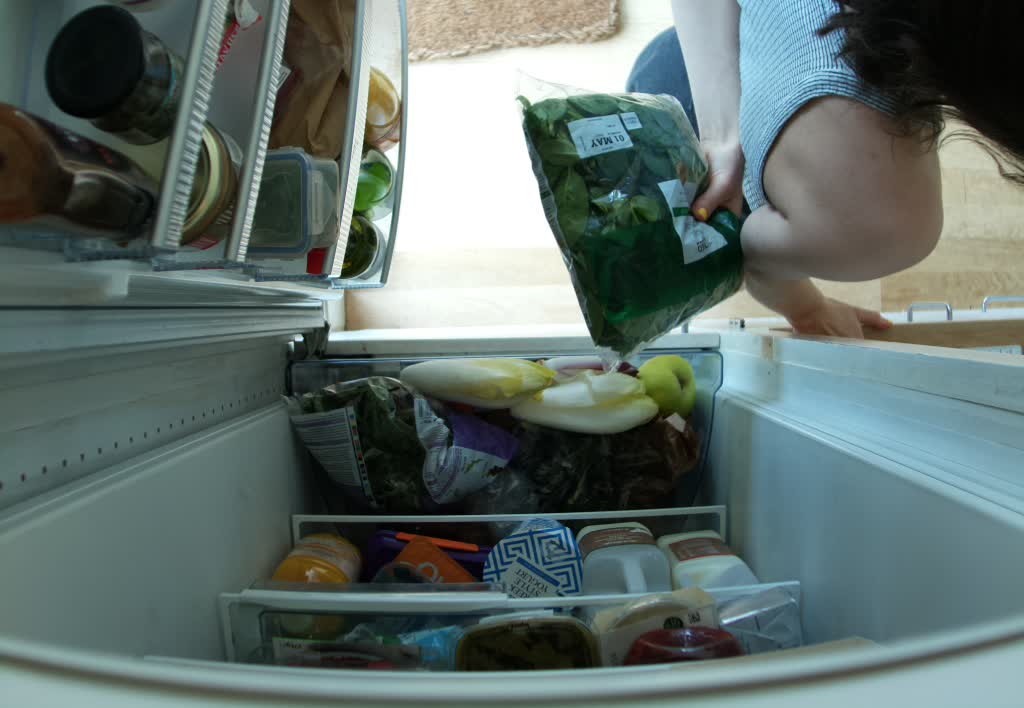salad: (519, 91, 749, 350), (287, 371, 505, 503), (510, 371, 668, 438), (398, 354, 566, 403)
